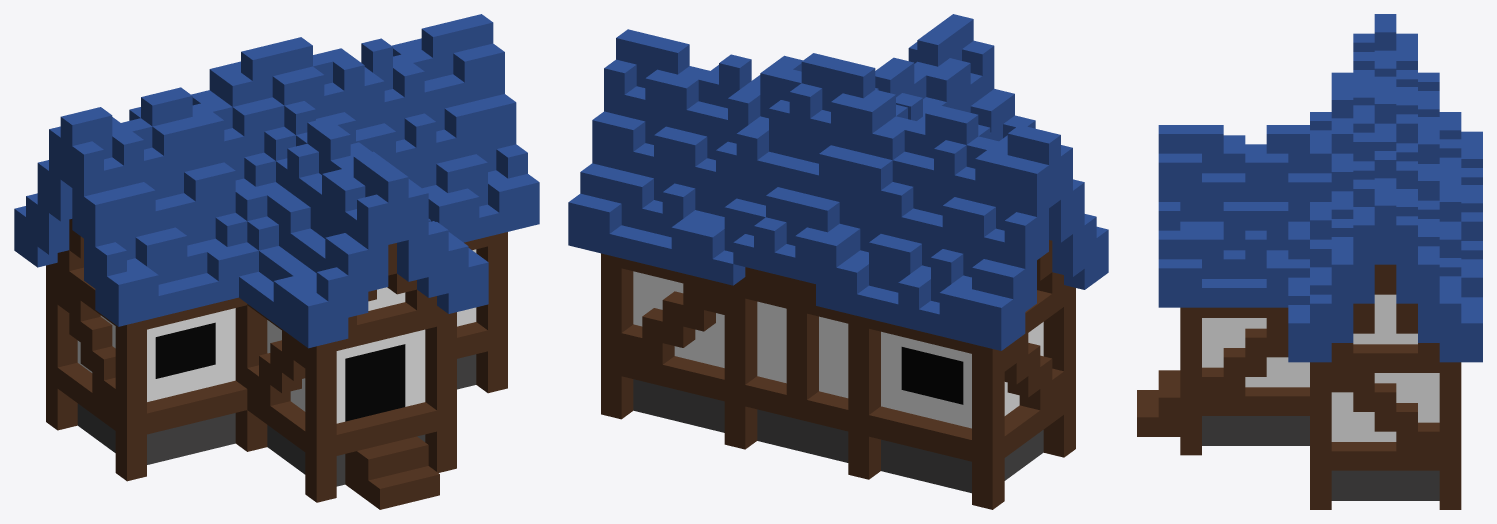
The model's file is house11.fbx.
3 views of the same model, side by side, from view 1: azimuth 30°, elevation 25°; view 2: azimuth 150°, elevation 25°; view 3: azimuth 270°, elevation 25° (orthographic). The views are drawn at different scales.
Visible parts, largest first — view 1: house1-14; view 2: house1-14; view 3: house1-14.
Boxes of the visible parts, x1,y1,x2,y2 form: house1-14: (14,14,539,509); house1-14: (568,14,1108,509); house1-14: (1137,14,1482,509).
Size of the model in its own units: 2100 by 1700 by 1600.
